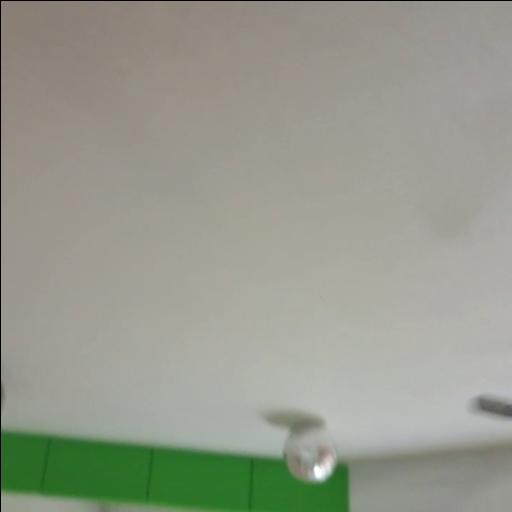alive: (282, 424, 338, 484)
